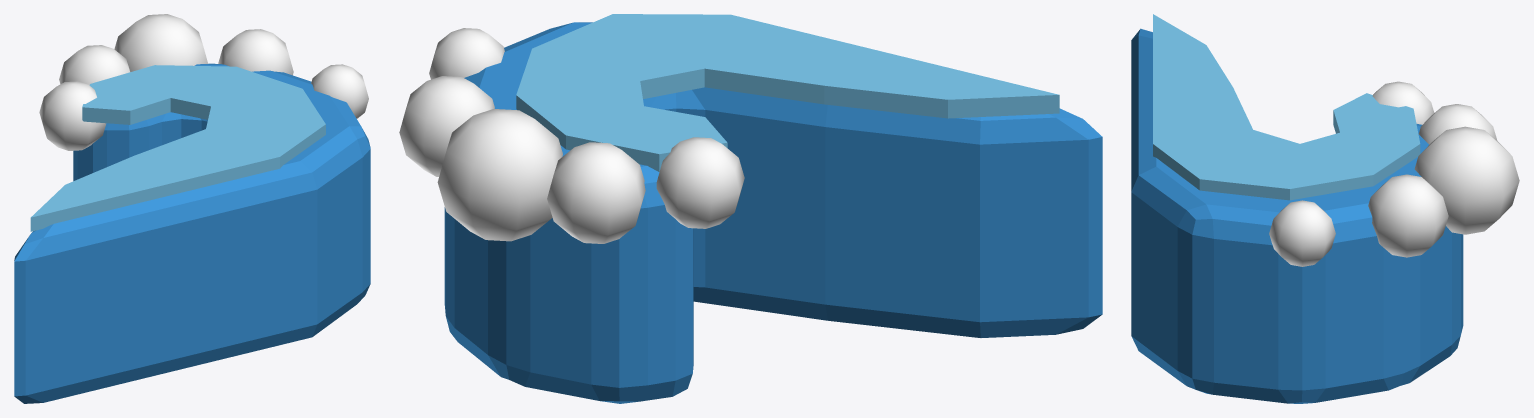
The model's file is wave.glb.
3 renders of one model, left to right at view 1: azimuth 30°, elevation 25°; view 2: azimuth 150°, elevation 25°; view 3: azimuth 270°, elevation 25°, orthographic. The views are drawn at different scales.
Visible parts, largest first — view 1: wave; view 2: wave; view 3: wave.
Boxes of the visible parts, left/top/right/bottom form: wave: left=14, top=14, right=370, bottom=403; wave: left=399, top=14, right=1102, bottom=403; wave: left=1131, top=14, right=1519, bottom=403.
Size of the model in its own units: 1.27 by 0.6 by 0.93.
